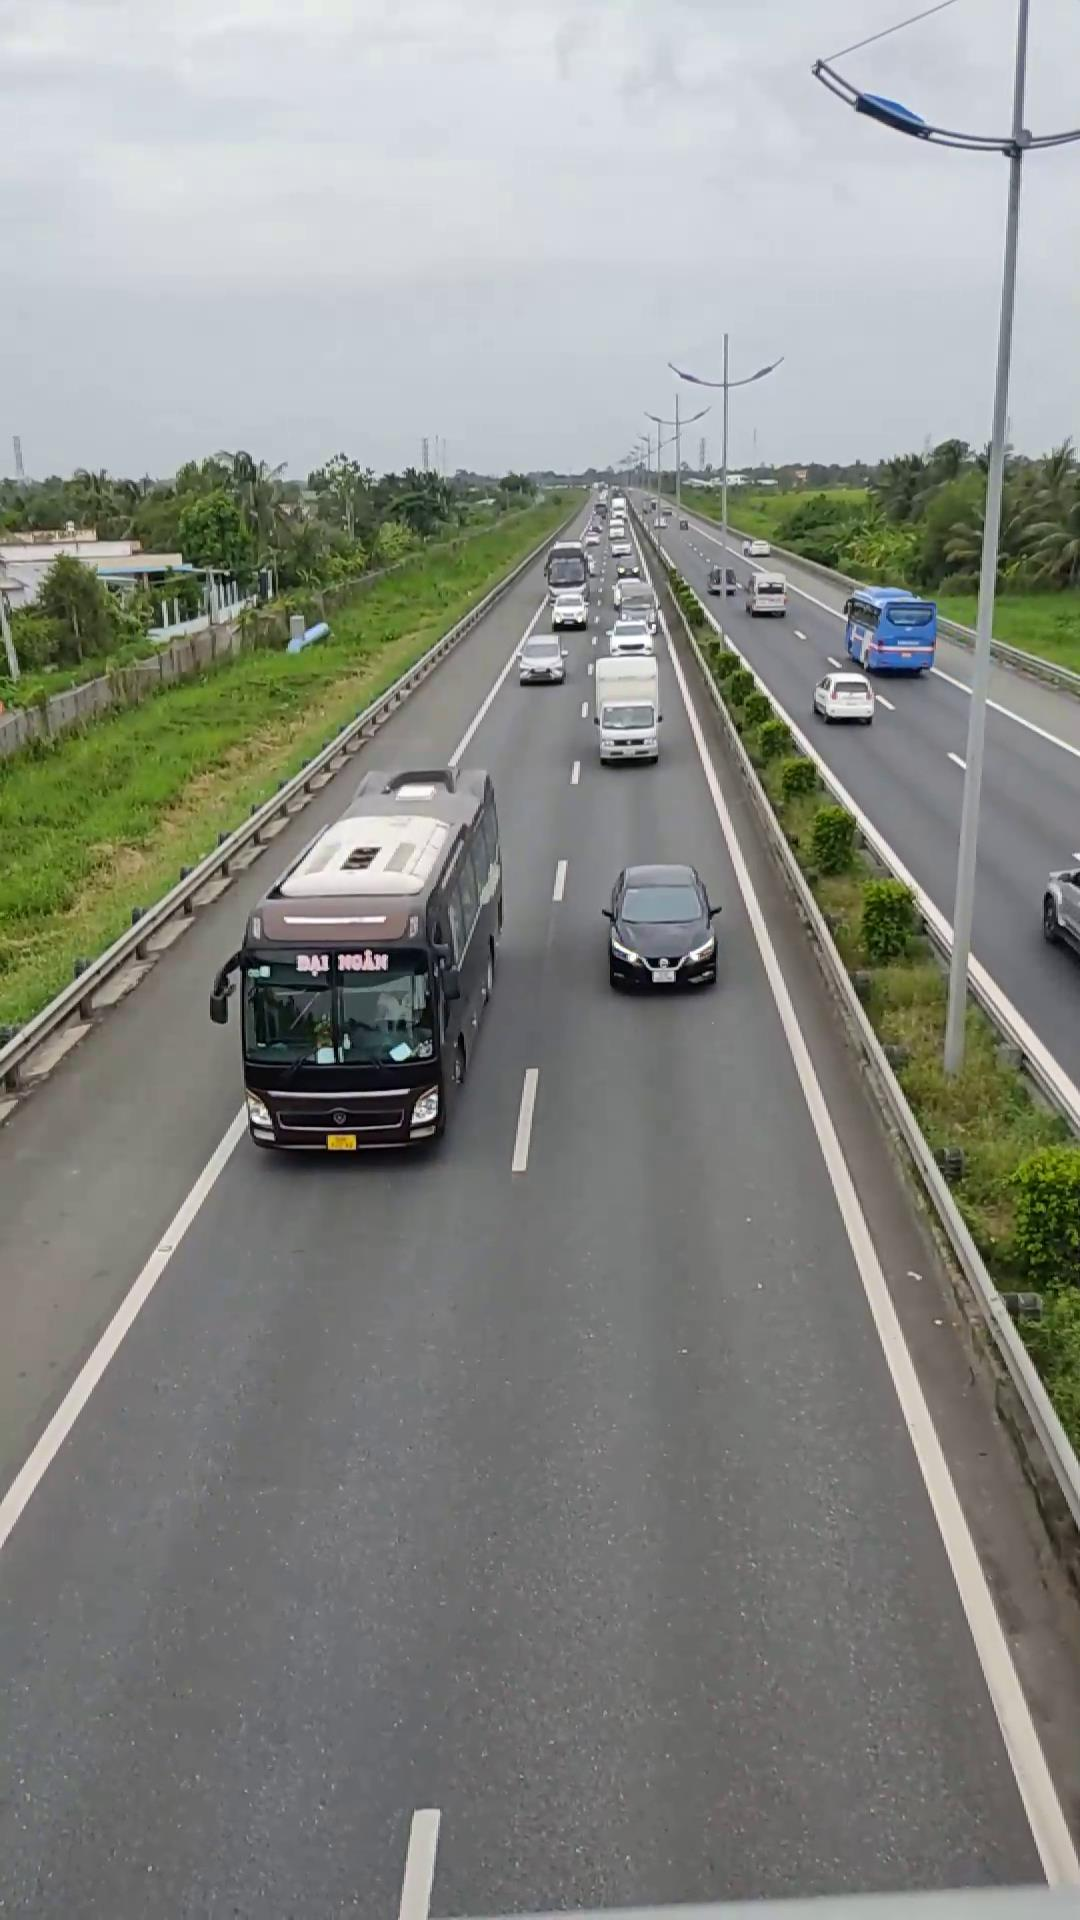bus: (225, 767, 508, 1157)
car: (603, 861, 720, 990)
truck: (843, 582, 938, 675)
